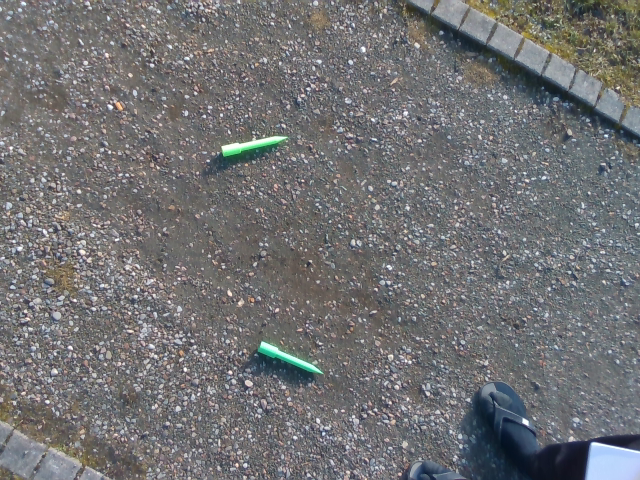Probe: (255, 333, 327, 378), (218, 132, 295, 160)
